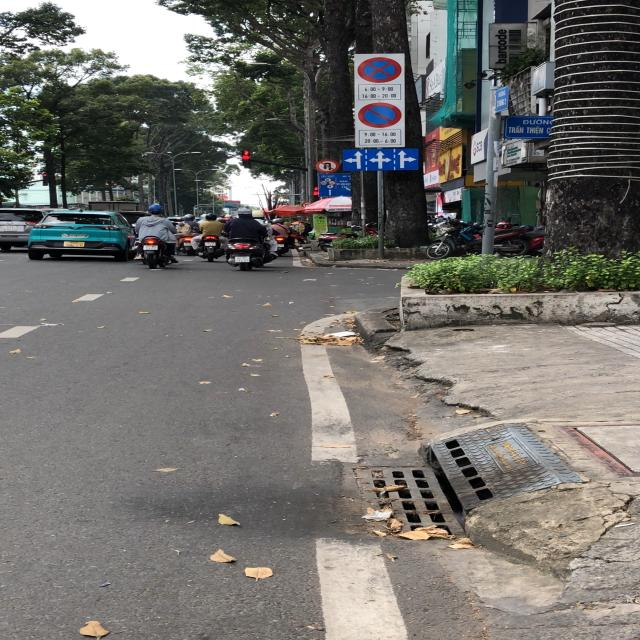Bien bao cam do xe: (354, 101, 404, 129)
Bien bao cam dung xe va do xe: (354, 57, 406, 83)
Bien bao cam quay dau xe: (316, 158, 339, 173)
